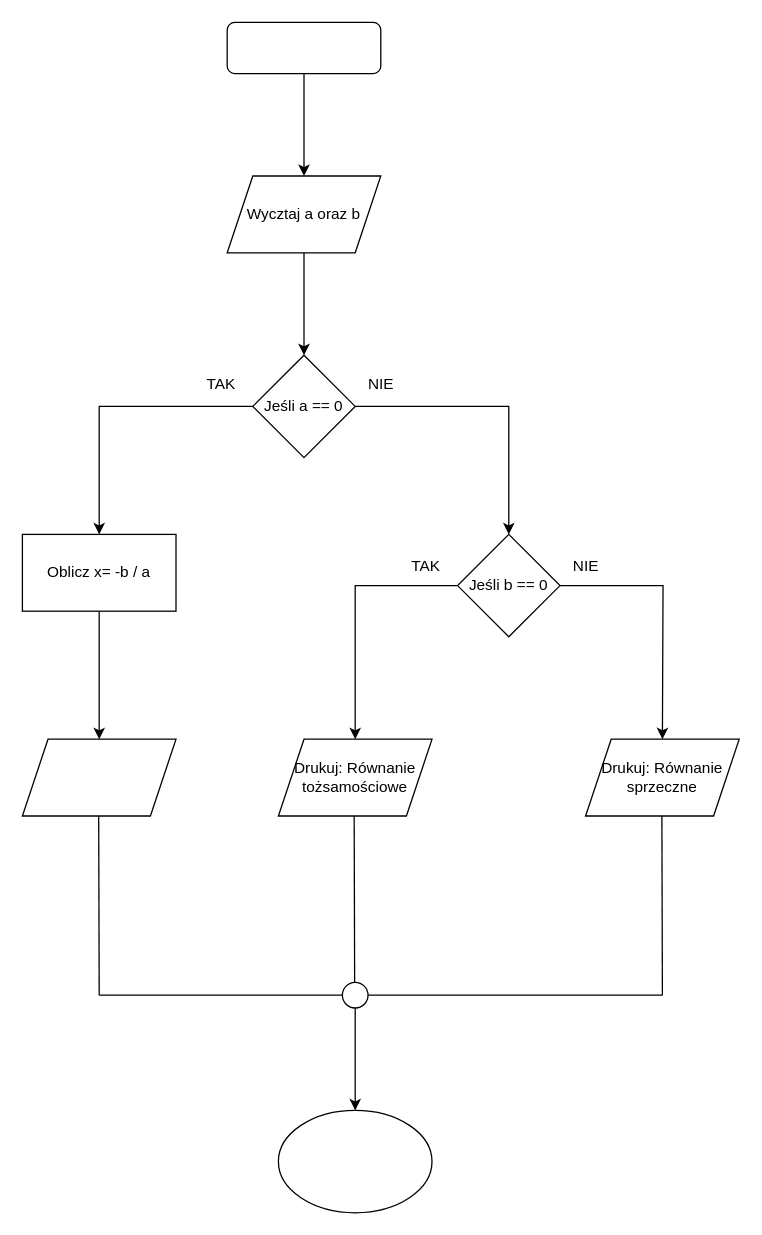
Image size: 762x1235. Some labels were removed from this diagram. The shapes that lost their labels are listed below. From the top down, each one's box as (x1, y1, x2, y2) in pixels, then its label:
(226, 21, 381, 74): Start
(21, 738, 176, 816): Drukuj x
(277, 1109, 432, 1213): KONIEC
